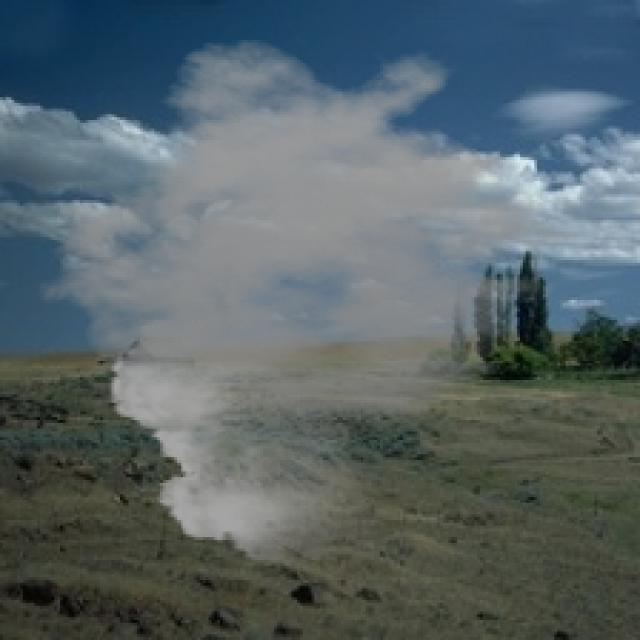Smoke: (37, 37, 606, 569)
